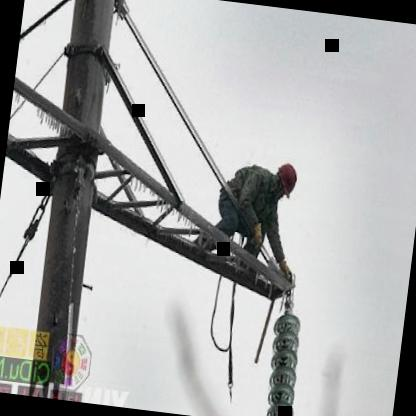helmet: (266, 160, 302, 202)
